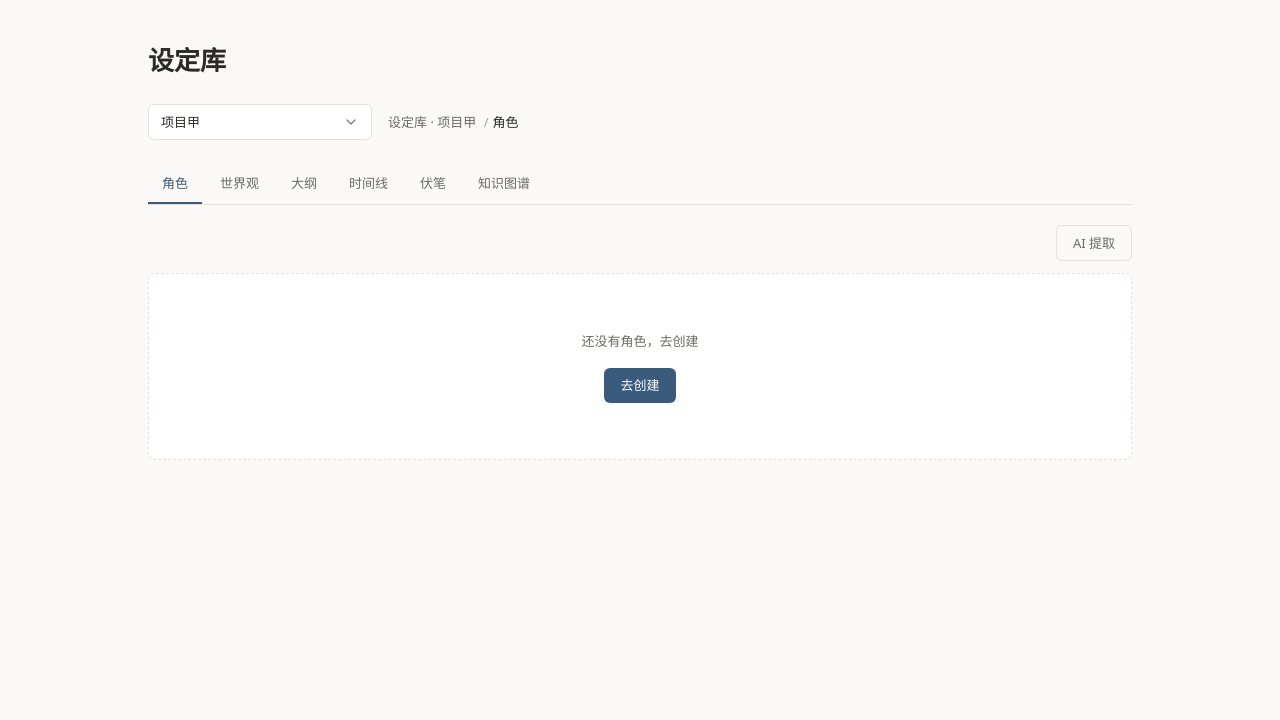
Test: #677 大纲生成刷新 + 进度 › T677-1 生成后新大纲+情节点立即可见（回填 pointsByChapter，不需切 tab）
Click the tab "大纲": [304, 184] box [277,164,331,204]
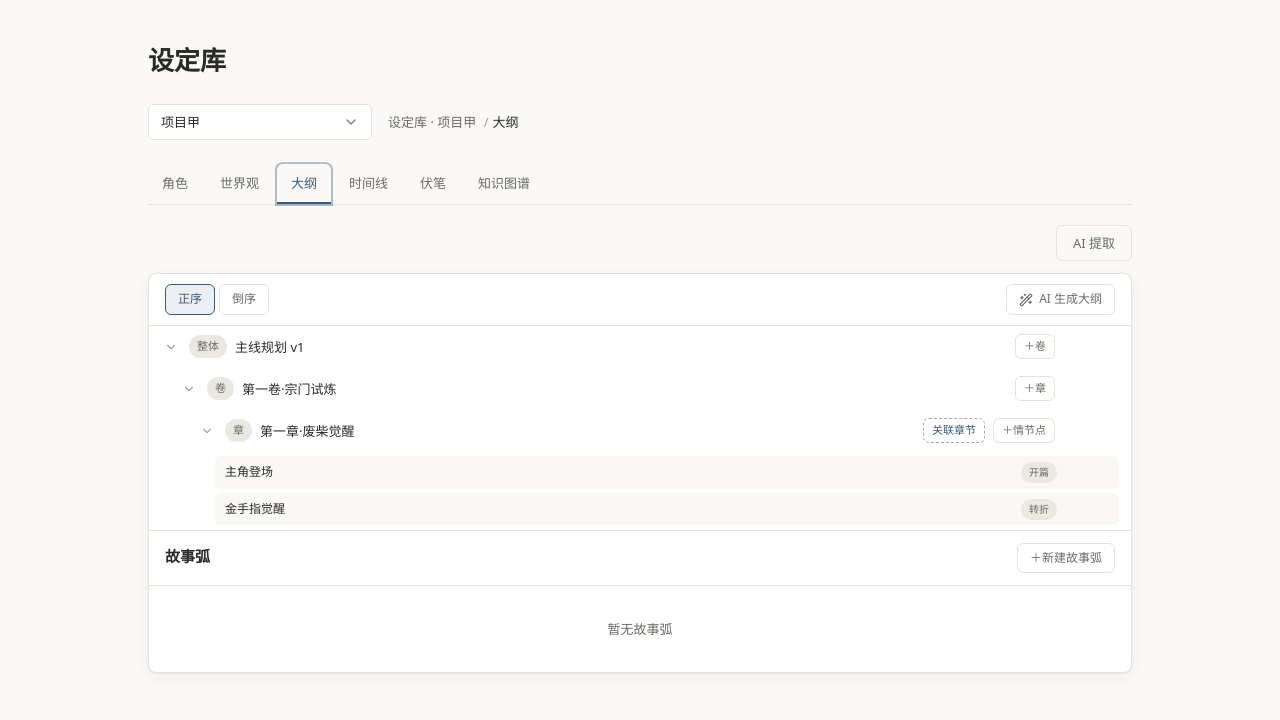
Check: the element with test id "outline-tree" is shown, box [149,326,1131,530]
Click the button with test id "library-ai-generate": [1061, 300] box [1006,284,1115,315]
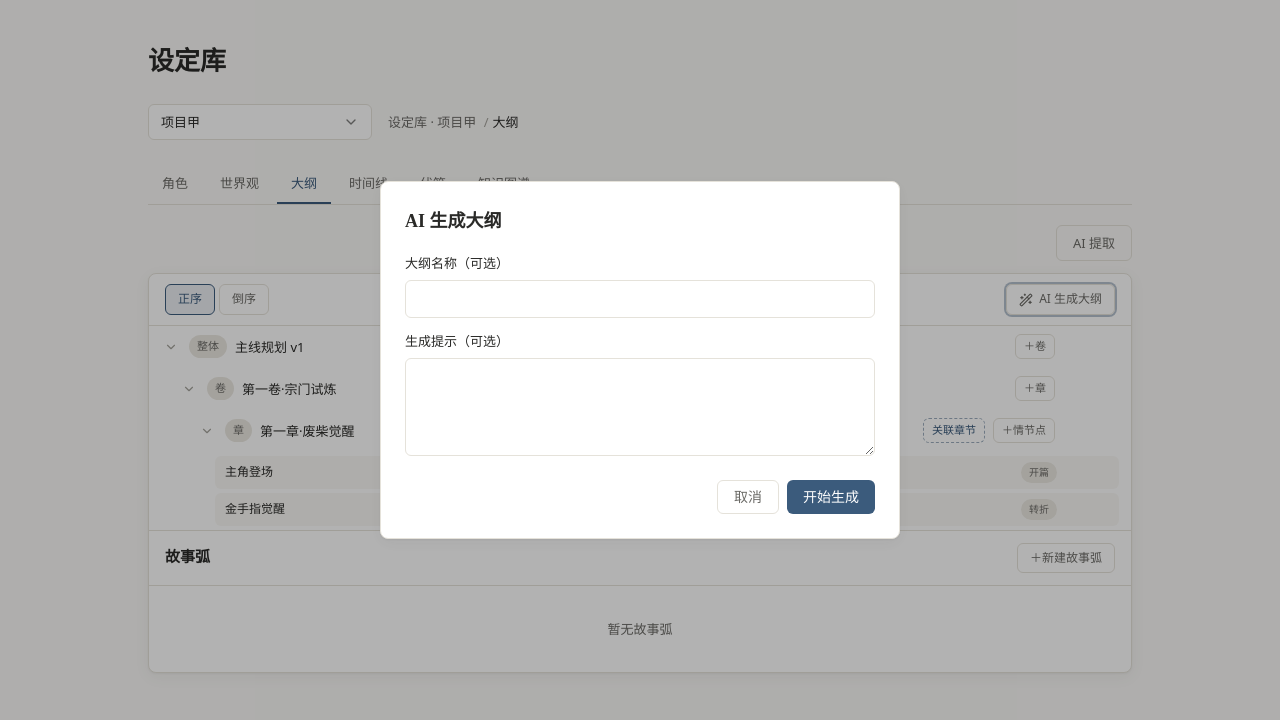
In the field with test id "outline-generate-name": [640, 299] box [405,280,875,318], type "第二卷规划"
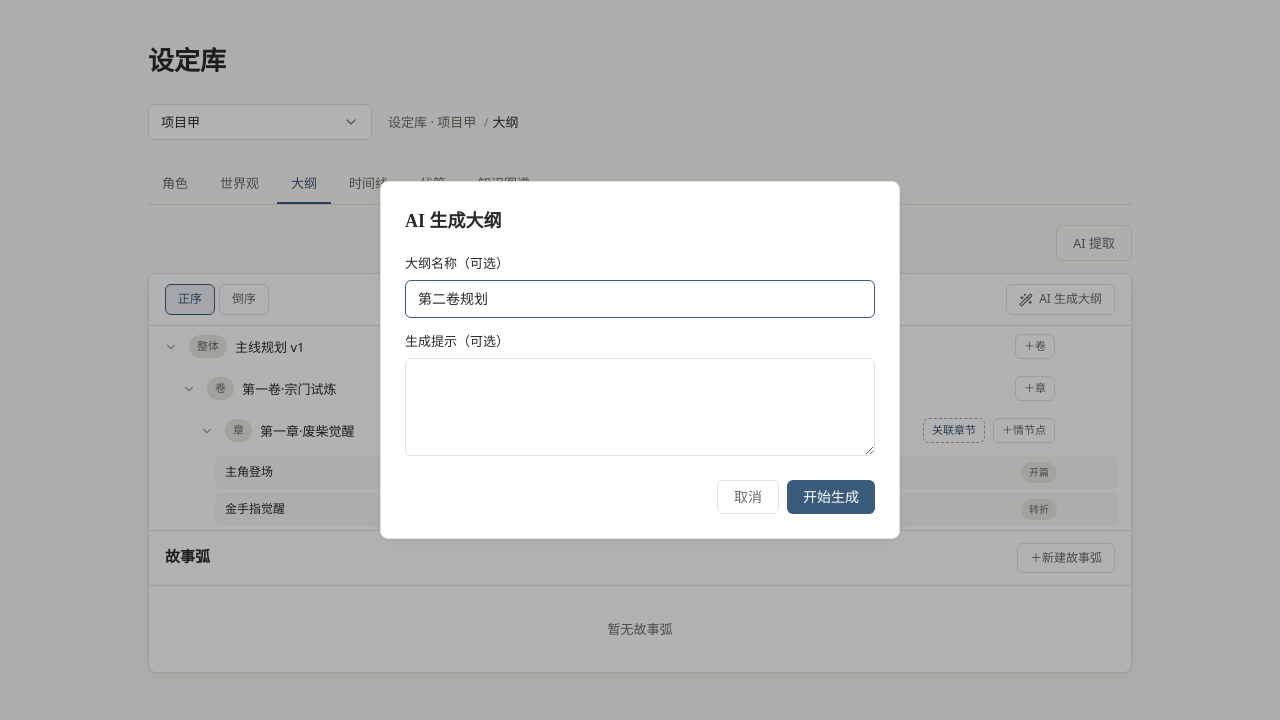
Click the button with test id "outline-generate-submit": [831, 497] box [787,480,875,514]
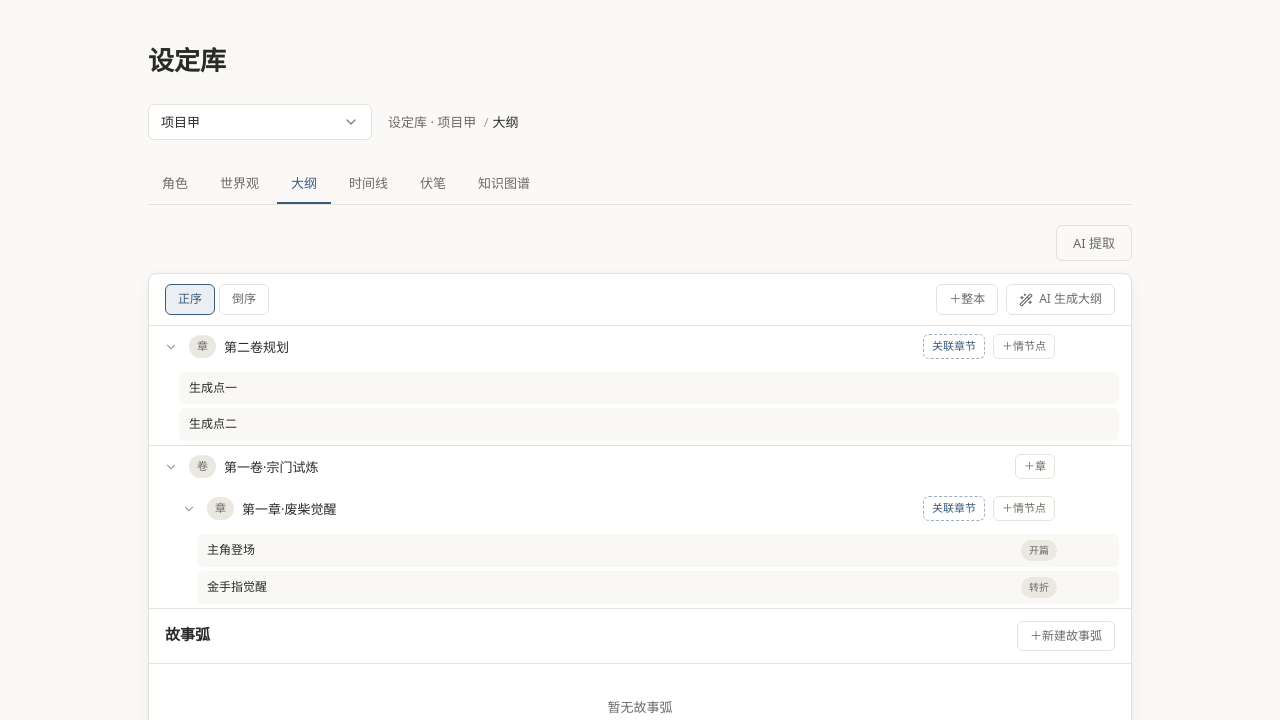
Check: the text "第二卷规划" is shown, box [224,338,289,356]
Check: the text "生成点一" is shown, box [189,379,237,396]
Check: the text "生成点二" is shown, box [189,415,237,432]
